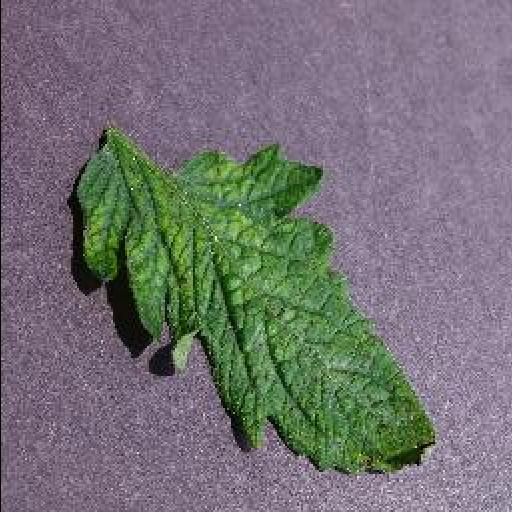disease_tomato: (78, 145, 440, 475)
